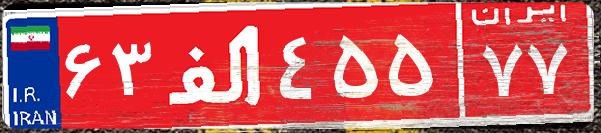3: (110, 28, 158, 105)
4: (273, 28, 330, 110)
5: (385, 28, 445, 110), (330, 28, 385, 110)
6: (57, 26, 110, 107)
7: (475, 38, 525, 113), (525, 38, 570, 115)
الف: (158, 15, 273, 115)
